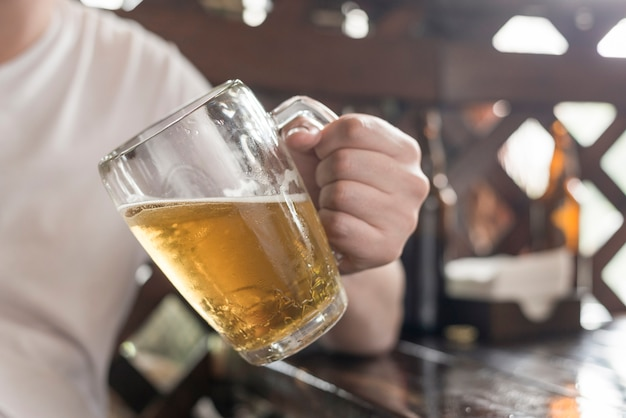alcohol: (99, 77, 363, 368)
